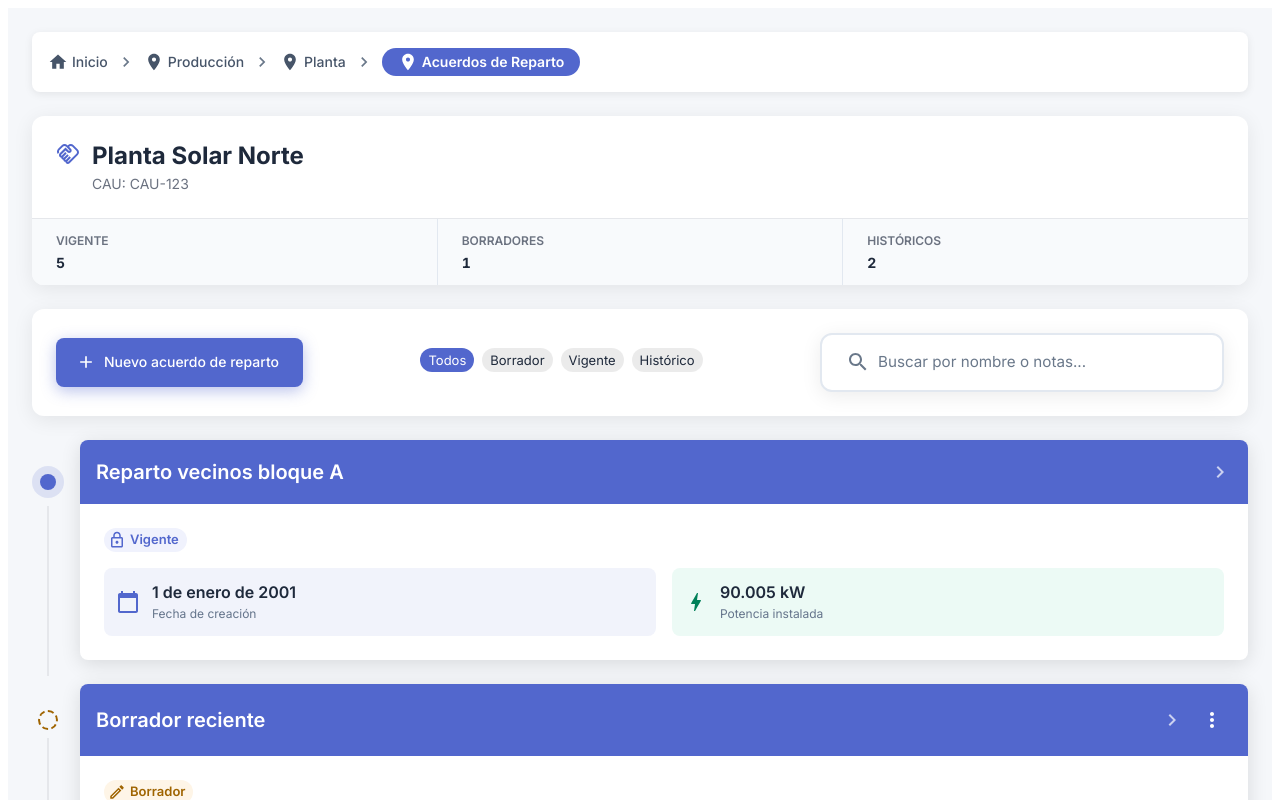
Test: SharingAgreementsPage › does not navigate to a route with a missing id when create succeeds without an id
The image size is (1280, 800).
Click the button "Nuevo acuerdo de reparto" at point(180, 362), box [56,338,303,387]
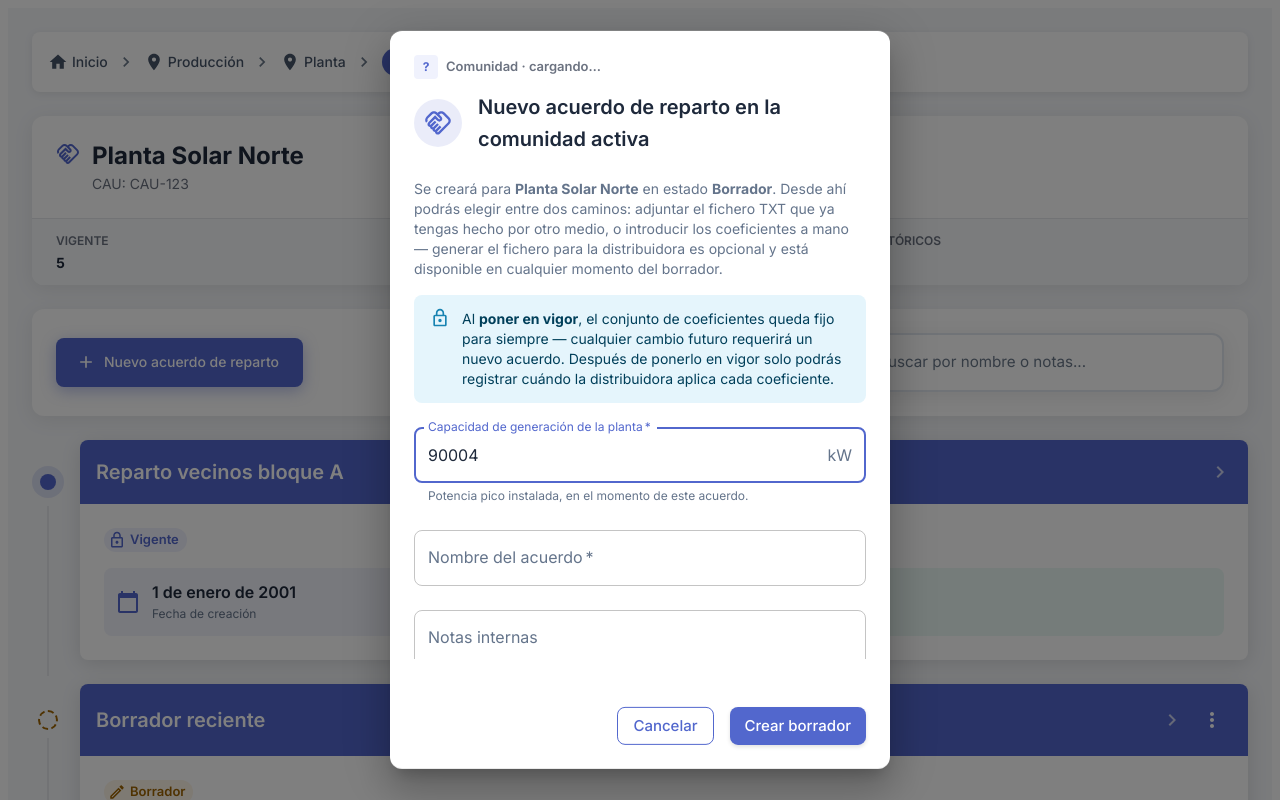
Type "Reparto nuevo" into the field labelled "Nombre del acuerdo" at point(640, 558), box [414,530,866,586]
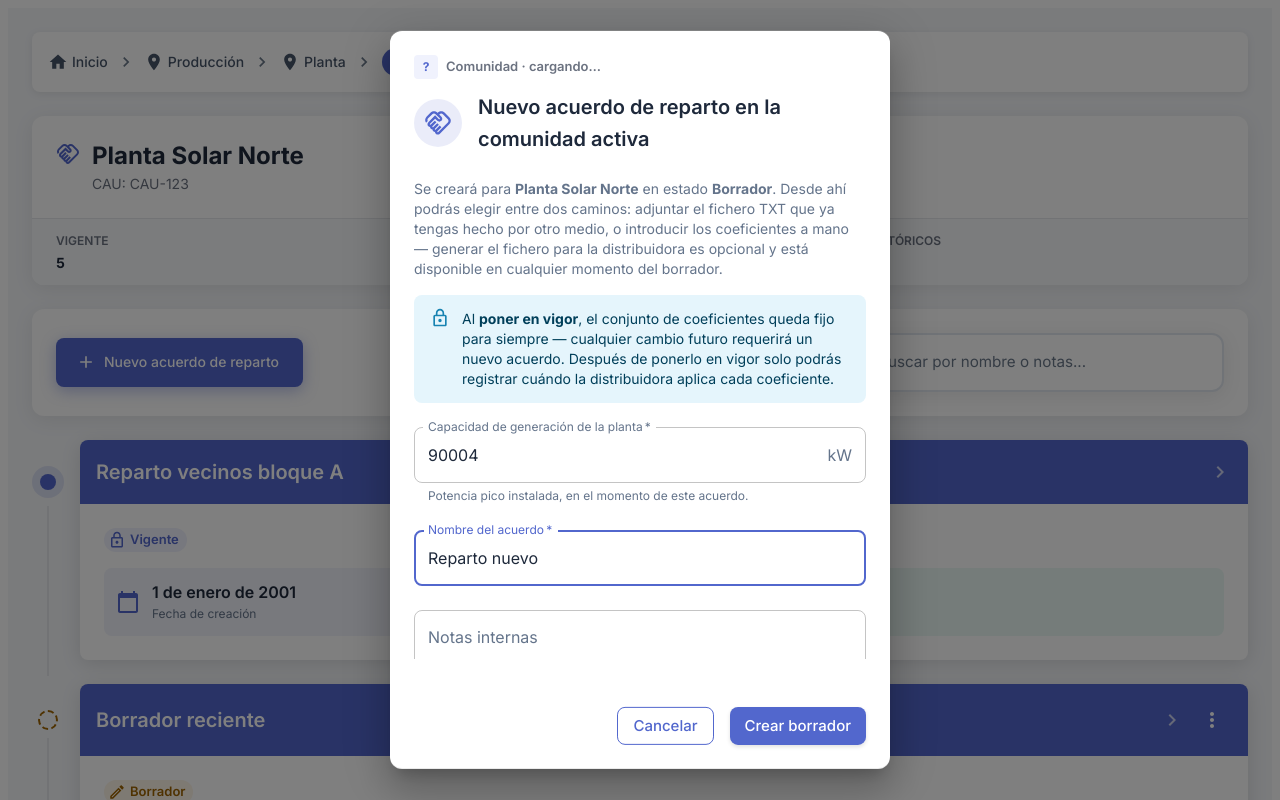
Type "10" into the field labelled "Capacidad de generación de la planta" at point(617, 455), box [414,427,820,483]
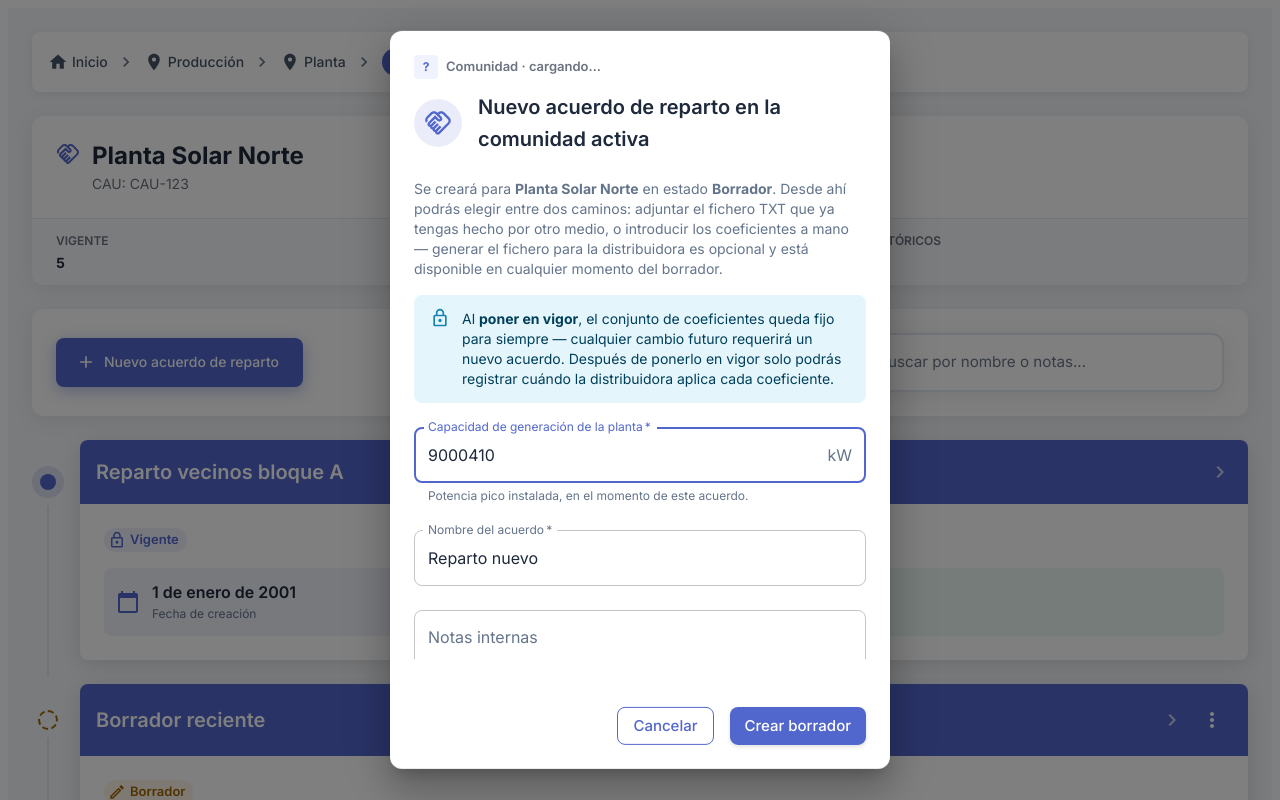
Click the button "Crear borrador" at point(798, 726), box [730,707,866,745]
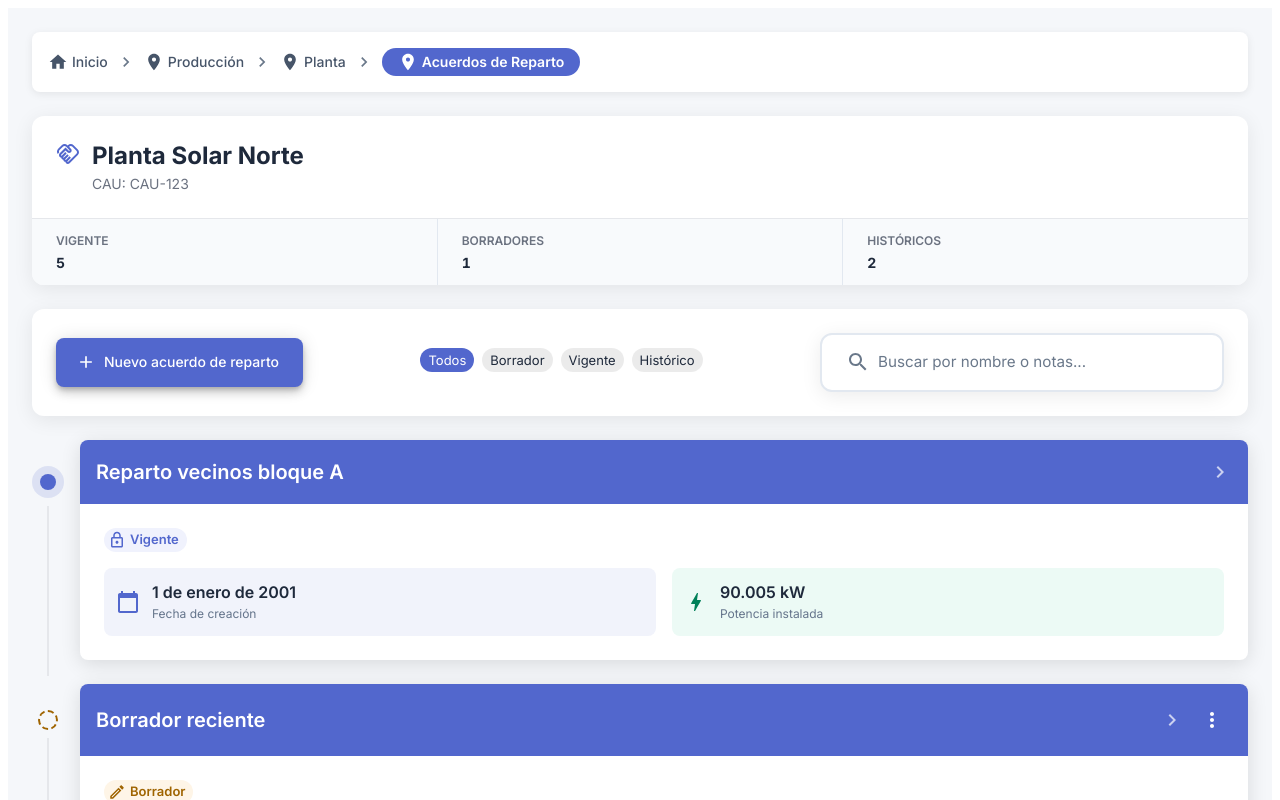
Expected: the heading "Nuevo acuerdo de reparto en la comunidad activa" is gone
